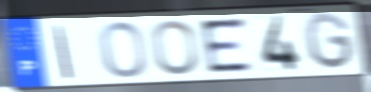4: (260, 14, 302, 74)
E: (197, 15, 256, 75)
G: (302, 10, 357, 72)
I: (53, 24, 75, 80)
O: (98, 20, 149, 80), (150, 18, 200, 77)
